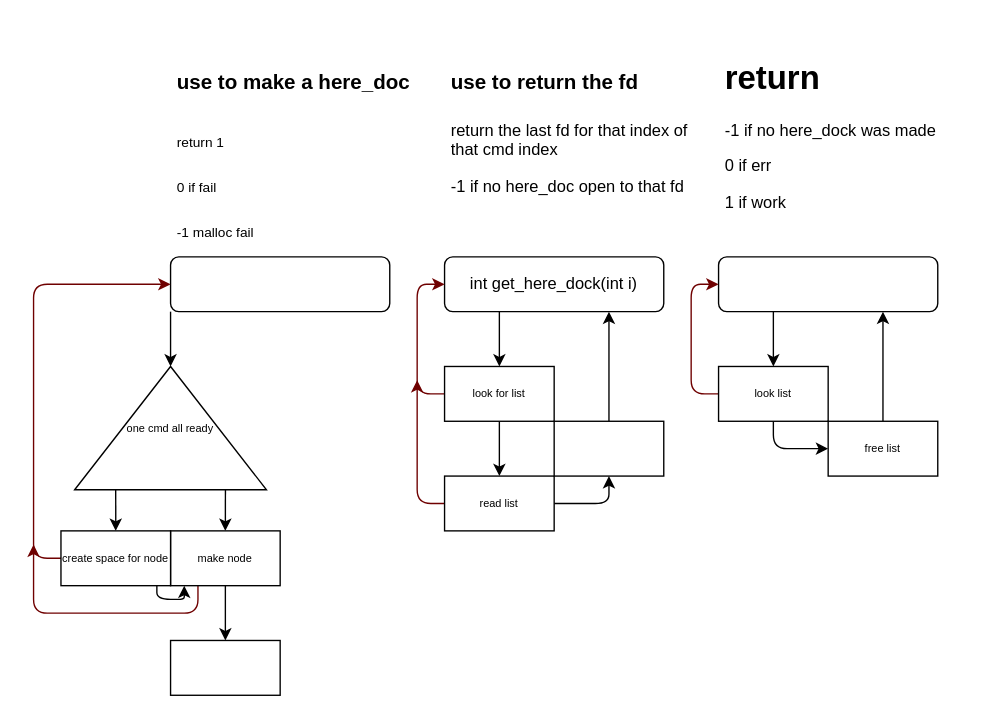
This 1003x719 diagram has some shape labels left out. Here are the shapes that lost their labels. From the top down, the box of each, then its label:
(169, 256, 390, 312): short make_here_doc(int i)
(717, 256, 938, 312): int free_here_dock(void)
(553, 420, 664, 476): return fd
(169, 639, 280, 695): add to list
